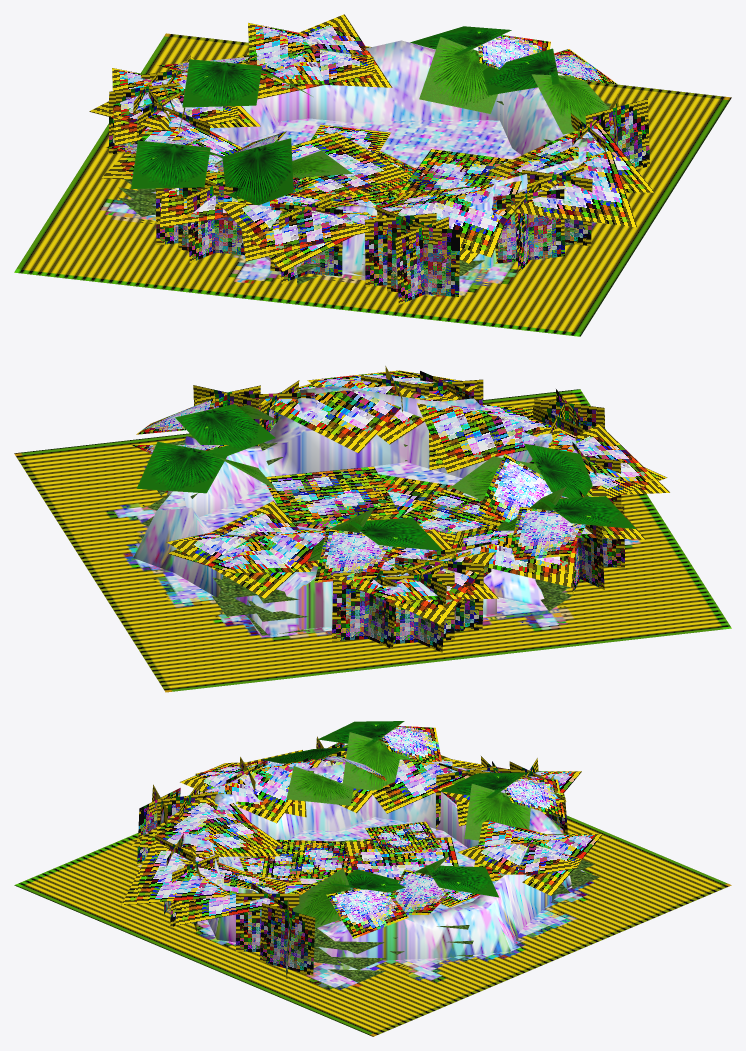
The model's file is sfx_x_gaia_pool.glb.
3 views of the same model, one above another, from view 1: azimuth 30°, elevation 25°; view 2: azimuth 150°, elevation 25°; view 3: azimuth 270°, elevation 25° (orthographic). The views are drawn at different scales.
Parts seen in each view (by area): view 1: MeshRoot; view 2: MeshRoot; view 3: MeshRoot.
Boxes of the visible parts, x1,y1,x2,y2 form: MeshRoot: (14, 14, 731, 336); MeshRoot: (14, 366, 731, 692); MeshRoot: (14, 721, 731, 1036).
Bounding box in the file's own units: 21.12 × 3.58 × 21.12.
Materials: 10 (10 with a texture image).
